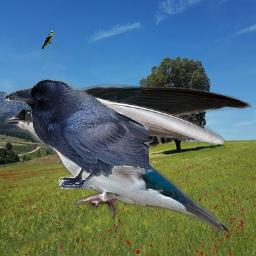Crow: (4, 79, 149, 189)
Swallow: (4, 82, 252, 235), (41, 30, 54, 50)
